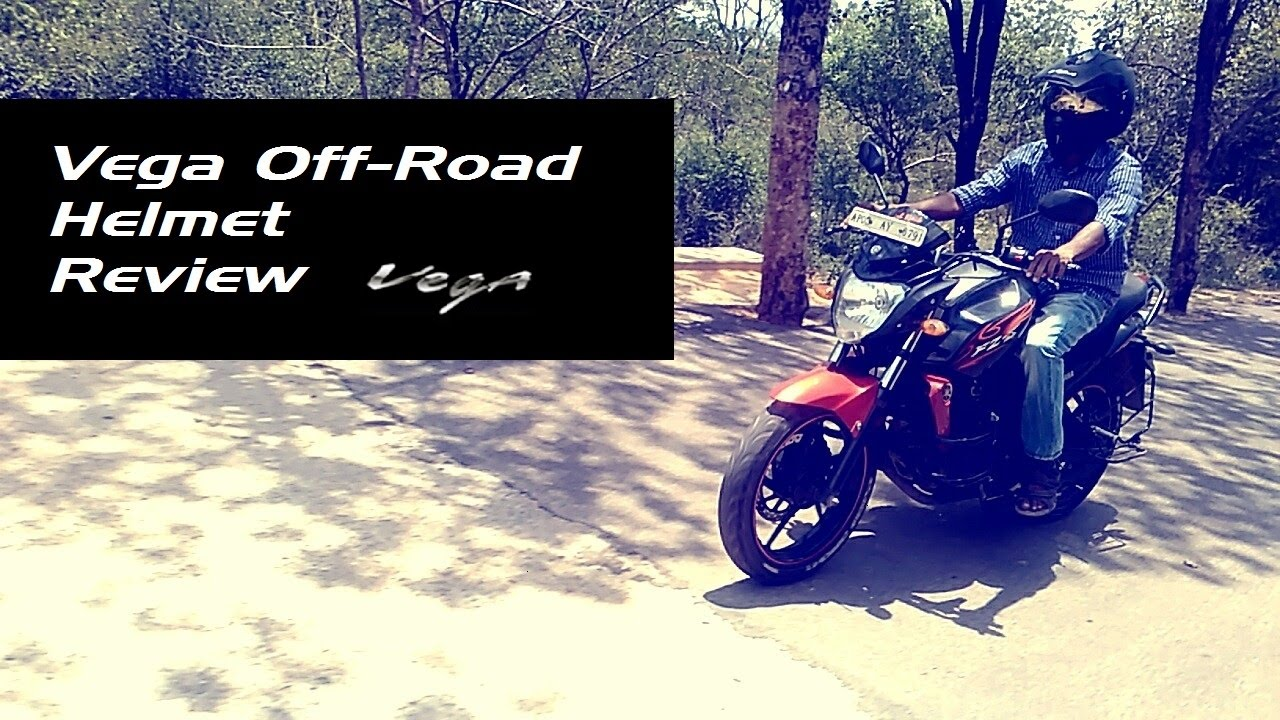helmet: (1032, 47, 1137, 159)
